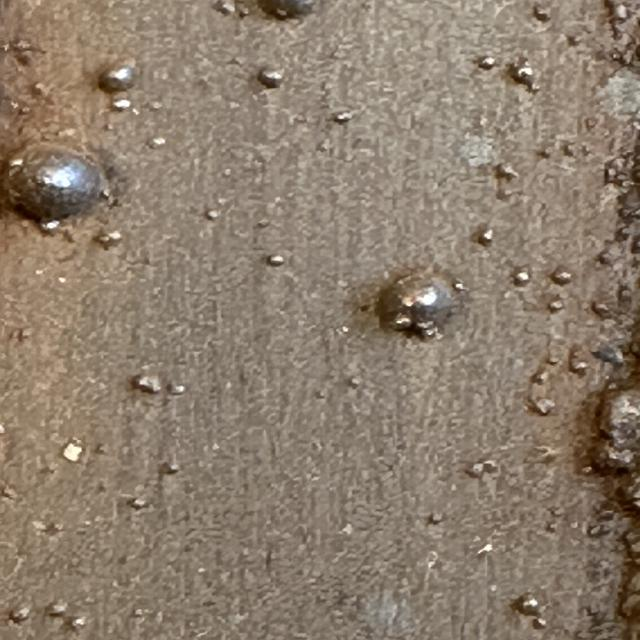Spatters: (621, 572, 640, 616), (588, 524, 610, 538), (619, 284, 632, 302), (428, 514, 442, 526)
